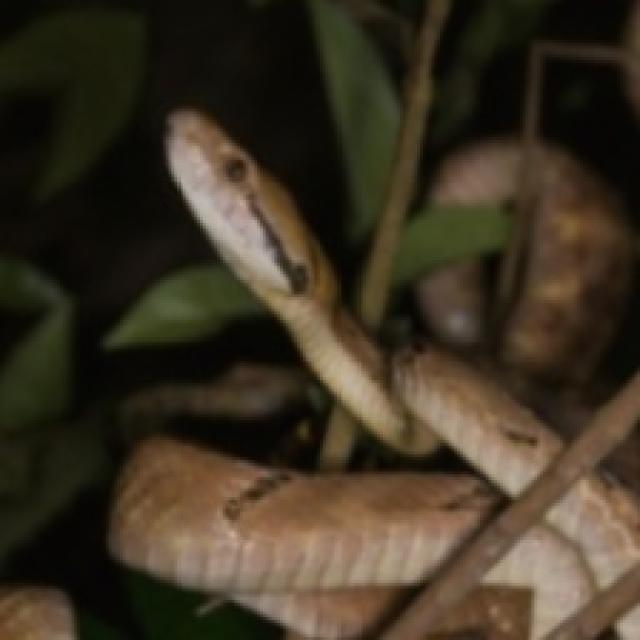dog-toothed cat snake: (166, 111, 561, 496), (111, 440, 501, 639), (436, 474, 640, 639), (501, 146, 628, 379), (431, 144, 518, 206), (421, 264, 485, 346)
